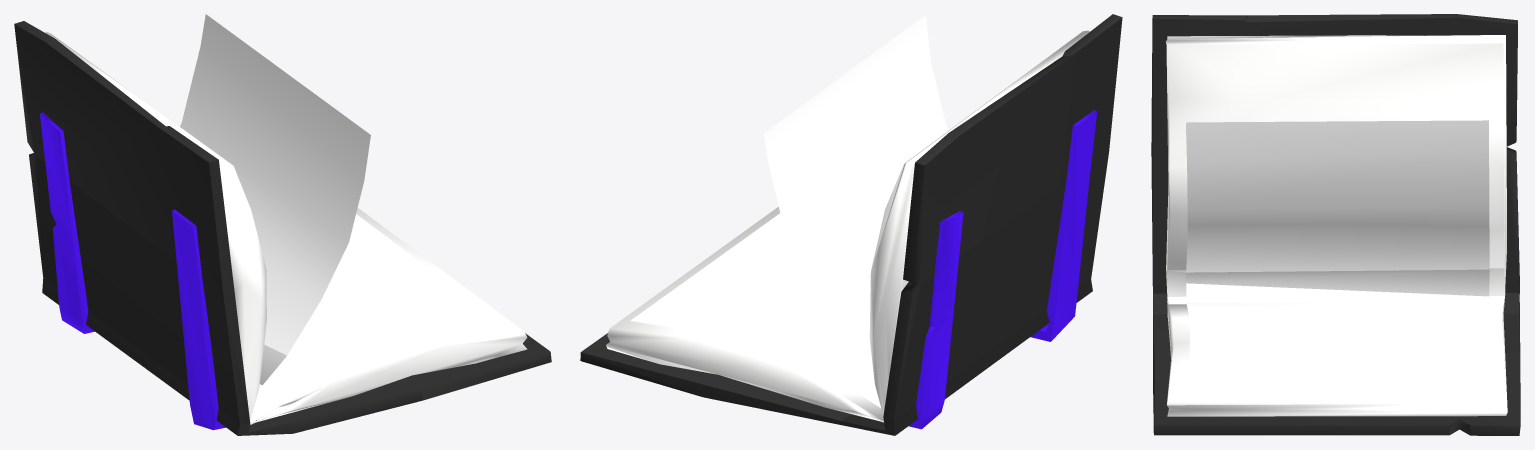
3 views of the same model, side by side, from view 1: azimuth 30°, elevation 25°; view 2: azimuth 150°, elevation 25°; view 3: azimuth 270°, elevation 25° (orthographic). The views are drawn at different scales.
Visible parts, largest first — view 1: CyberPunkGuestBookFlipping.007; view 2: CyberPunkGuestBookFlipping.007; view 3: CyberPunkGuestBookFlipping.007.
Part boxes in pixels (x1,y1,x2,y2): CyberPunkGuestBookFlipping.007: [14, 14, 551, 435]; CyberPunkGuestBookFlipping.007: [580, 14, 1122, 435]; CyberPunkGuestBookFlipping.007: [1151, 14, 1520, 435].
Size of what is drawn, in the model's own units: 0.3266 by 0.2728 by 0.3243.
Materials: 2 (2 with a texture image).
